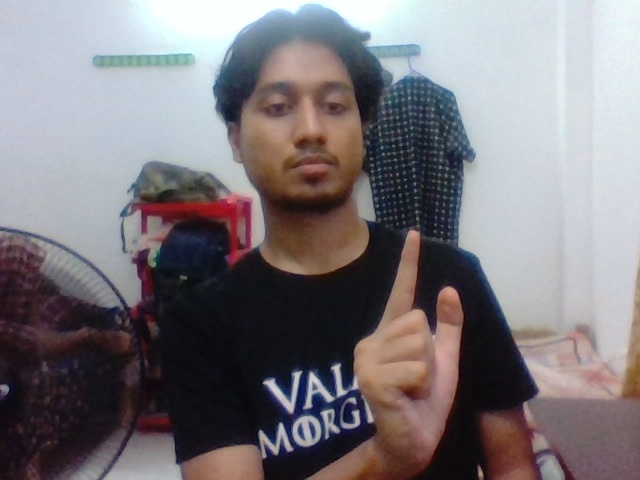J: (373, 216, 489, 409)
